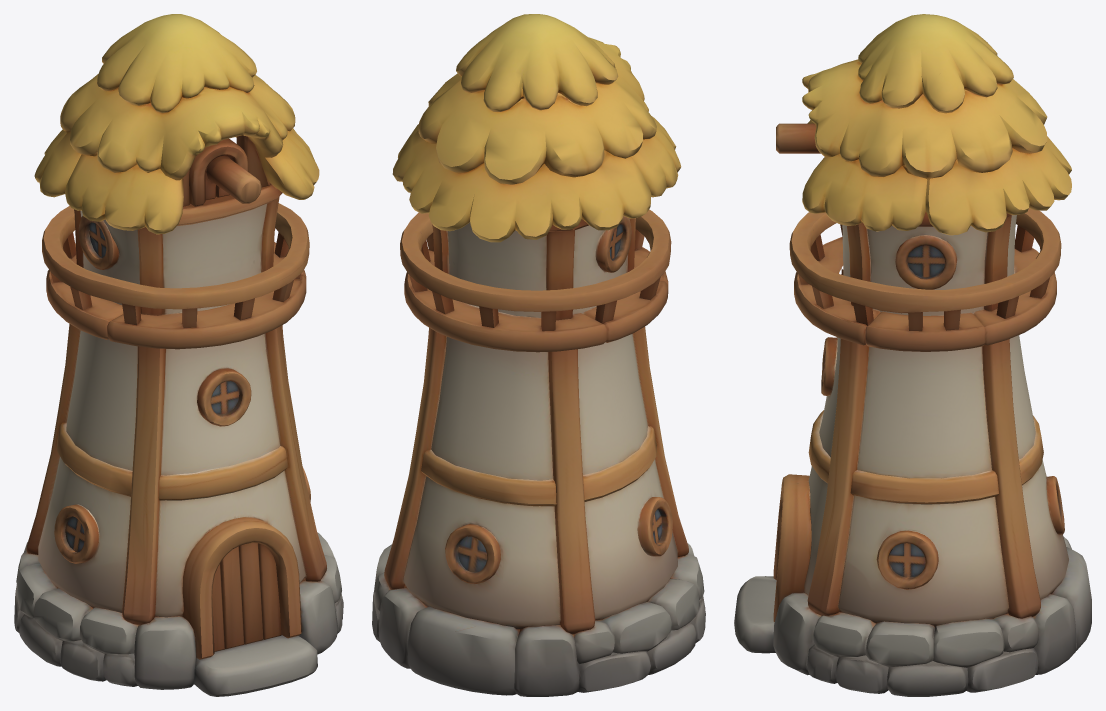
File: windmill_body.glb
The picture shows the model from 3 angles, left to right: view 1: azimuth 30°, elevation 25°; view 2: azimuth 150°, elevation 25°; view 3: azimuth 270°, elevation 25°; orthographic projection.
Visible parts, largest first — view 1: windmill_body; view 2: windmill_body; view 3: windmill_body.
Part boxes in pixels (x1,y1,x2,y2): windmill_body: [14, 14, 343, 696]; windmill_body: [372, 14, 705, 696]; windmill_body: [734, 14, 1091, 696].
Size of the model in its own units: 8.01 by 16 by 8.51.
Materials: 1 (1 with a texture image).
